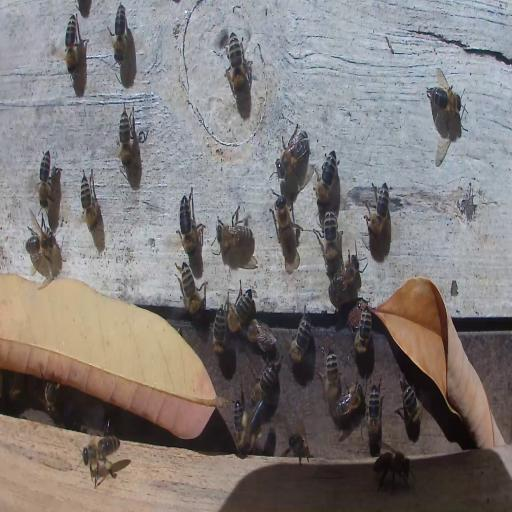nonpollenbee: (214, 206, 252, 264), (374, 446, 414, 494), (327, 254, 360, 308), (276, 124, 309, 178), (83, 436, 121, 480), (176, 260, 205, 317), (79, 167, 101, 236), (252, 362, 282, 409), (366, 180, 391, 236), (314, 150, 338, 208), (227, 33, 249, 96), (289, 305, 312, 365), (398, 378, 424, 431), (426, 83, 463, 120), (178, 190, 198, 258), (225, 284, 253, 332), (318, 346, 340, 406), (322, 206, 341, 273), (24, 228, 58, 262), (366, 382, 382, 454), (274, 196, 294, 252), (353, 304, 374, 355), (246, 318, 276, 353), (111, 3, 127, 65), (333, 384, 362, 418), (285, 430, 311, 466), (64, 12, 79, 74), (118, 107, 132, 171), (38, 150, 52, 206), (212, 308, 226, 353), (44, 379, 60, 418), (7, 386, 22, 406)
pollenbee: (232, 398, 252, 461)
